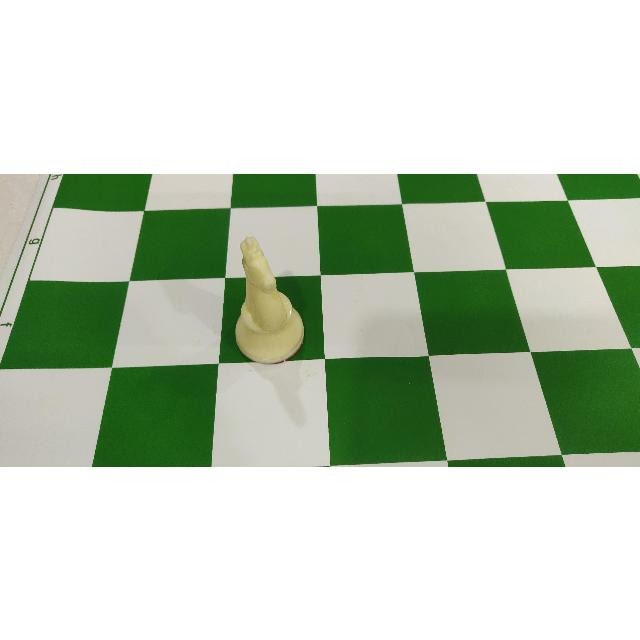white-knight: (234, 234, 305, 363)
